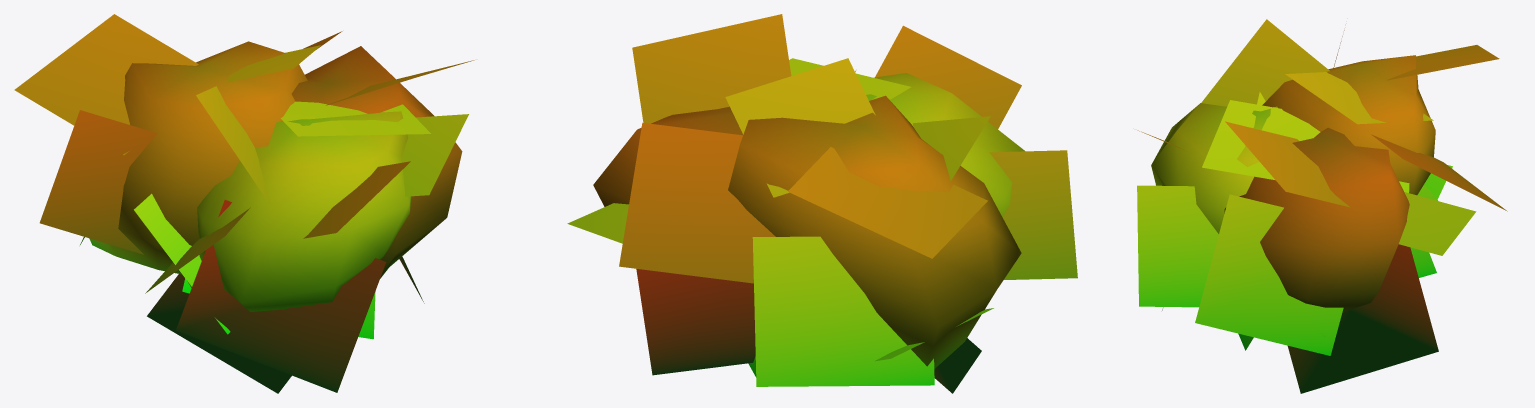
The model's file is shrub.glb.
3 renders of one model, left to right at view 1: azimuth 30°, elevation 25°; view 2: azimuth 150°, elevation 25°; view 3: azimuth 270°, elevation 25°, orthographic. The views are drawn at different scales.
Parts seen in each view (by area): view 1: foliage_compact_shrub_body, foliage_shrub_edge_leaves; view 2: foliage_shrub_edge_leaves, foliage_compact_shrub_body; view 3: foliage_shrub_edge_leaves, foliage_compact_shrub_body.
Boxes of the visible parts, <box> form: foliage_compact_shrub_body: <box>89,41,462,311</box>; foliage_shrub_edge_leaves: <box>14,14,474,393</box>; foliage_shrub_edge_leaves: <box>567,14,1077,393</box>; foliage_compact_shrub_body: <box>593,73,1024,368</box>; foliage_shrub_edge_leaves: <box>1137,19,1507,393</box>; foliage_compact_shrub_body: <box>1151,55,1435,312</box>.
Bounding box in the file's own units: 1.53 × 0.9815 × 1.4.
